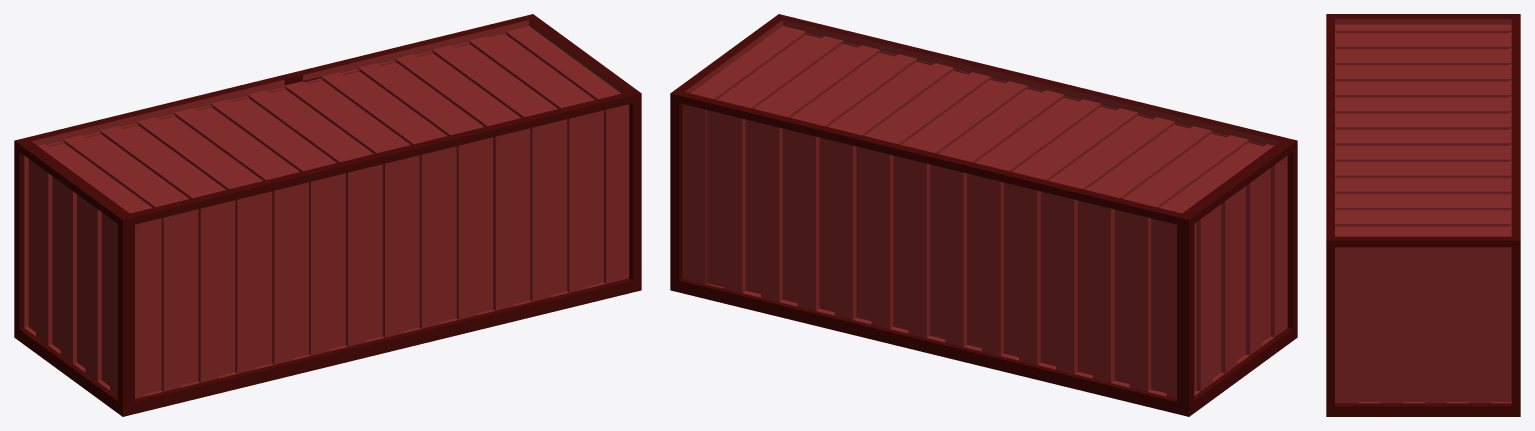
The model's file is Container.fbx.
3 views of the same model, side by side, from view 1: azimuth 30°, elevation 25°; view 2: azimuth 150°, elevation 25°; view 3: azimuth 270°, elevation 25° (orthographic). The views are drawn at different scales.
Visible parts, largest first — view 1: Cube; view 2: Cube; view 3: Cube.
Boxes of the visible parts, x1=… form: Cube: x1=14, y1=14, x2=641, y2=416; Cube: x1=670, y1=14, x2=1297, y2=416; Cube: x1=1326, y1=14, x2=1520, y2=416.
Size of the model in its own units: 552 by 200 by 200.
